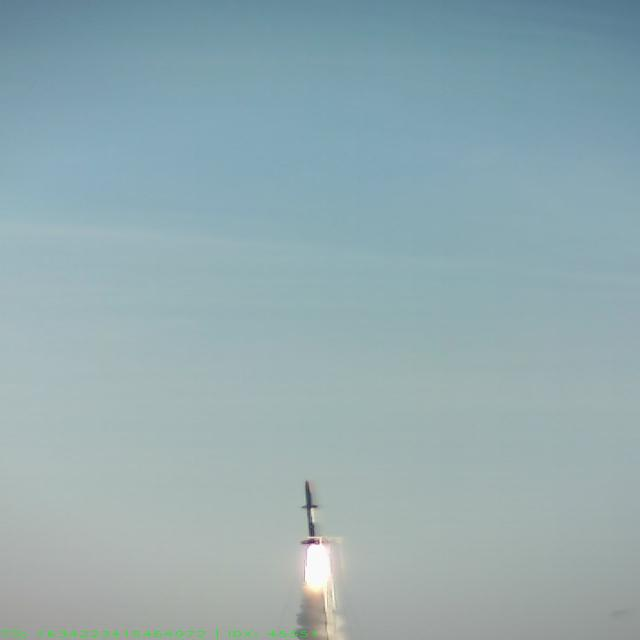Rocket: (300, 480, 322, 544)
